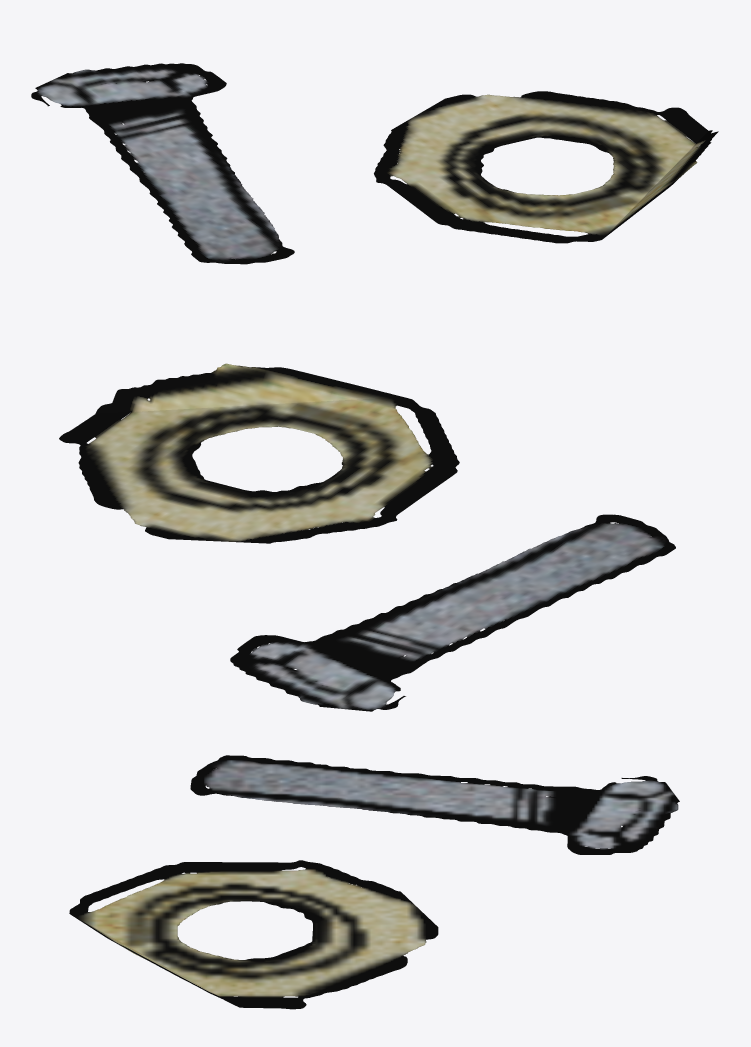
3 renders of one model, top to bottom at view 1: azimuth 30°, elevation 25°; view 2: azimuth 150°, elevation 25°; view 3: azimuth 270°, elevation 25°, orthographic. The views are drawn at different scales.
Visible parts, largest first — view 1: polySurface18; view 2: polySurface18; view 3: polySurface18.
Part boxes in pixels (left/top/right/bottom): polySurface18: left=31, top=63, right=718, bottom=264; polySurface18: left=59, top=363, right=675, bottom=711; polySurface18: left=69, top=755, right=679, bottom=1009.
Bounding box in the file's own units: 4.57 × 0.3417 × 4.83.
